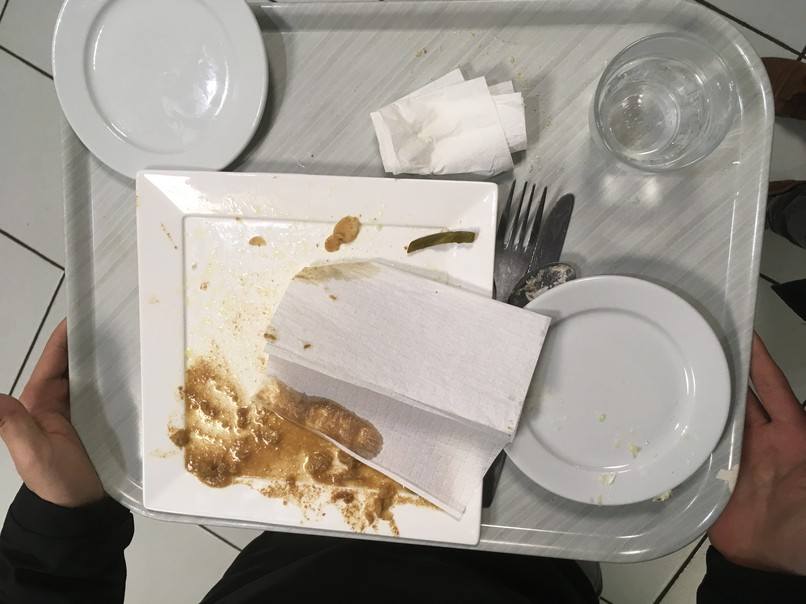cup: (582, 16, 751, 179)
cutlery: (476, 178, 591, 308)
trash: (295, 266, 528, 493), (380, 80, 521, 181)
